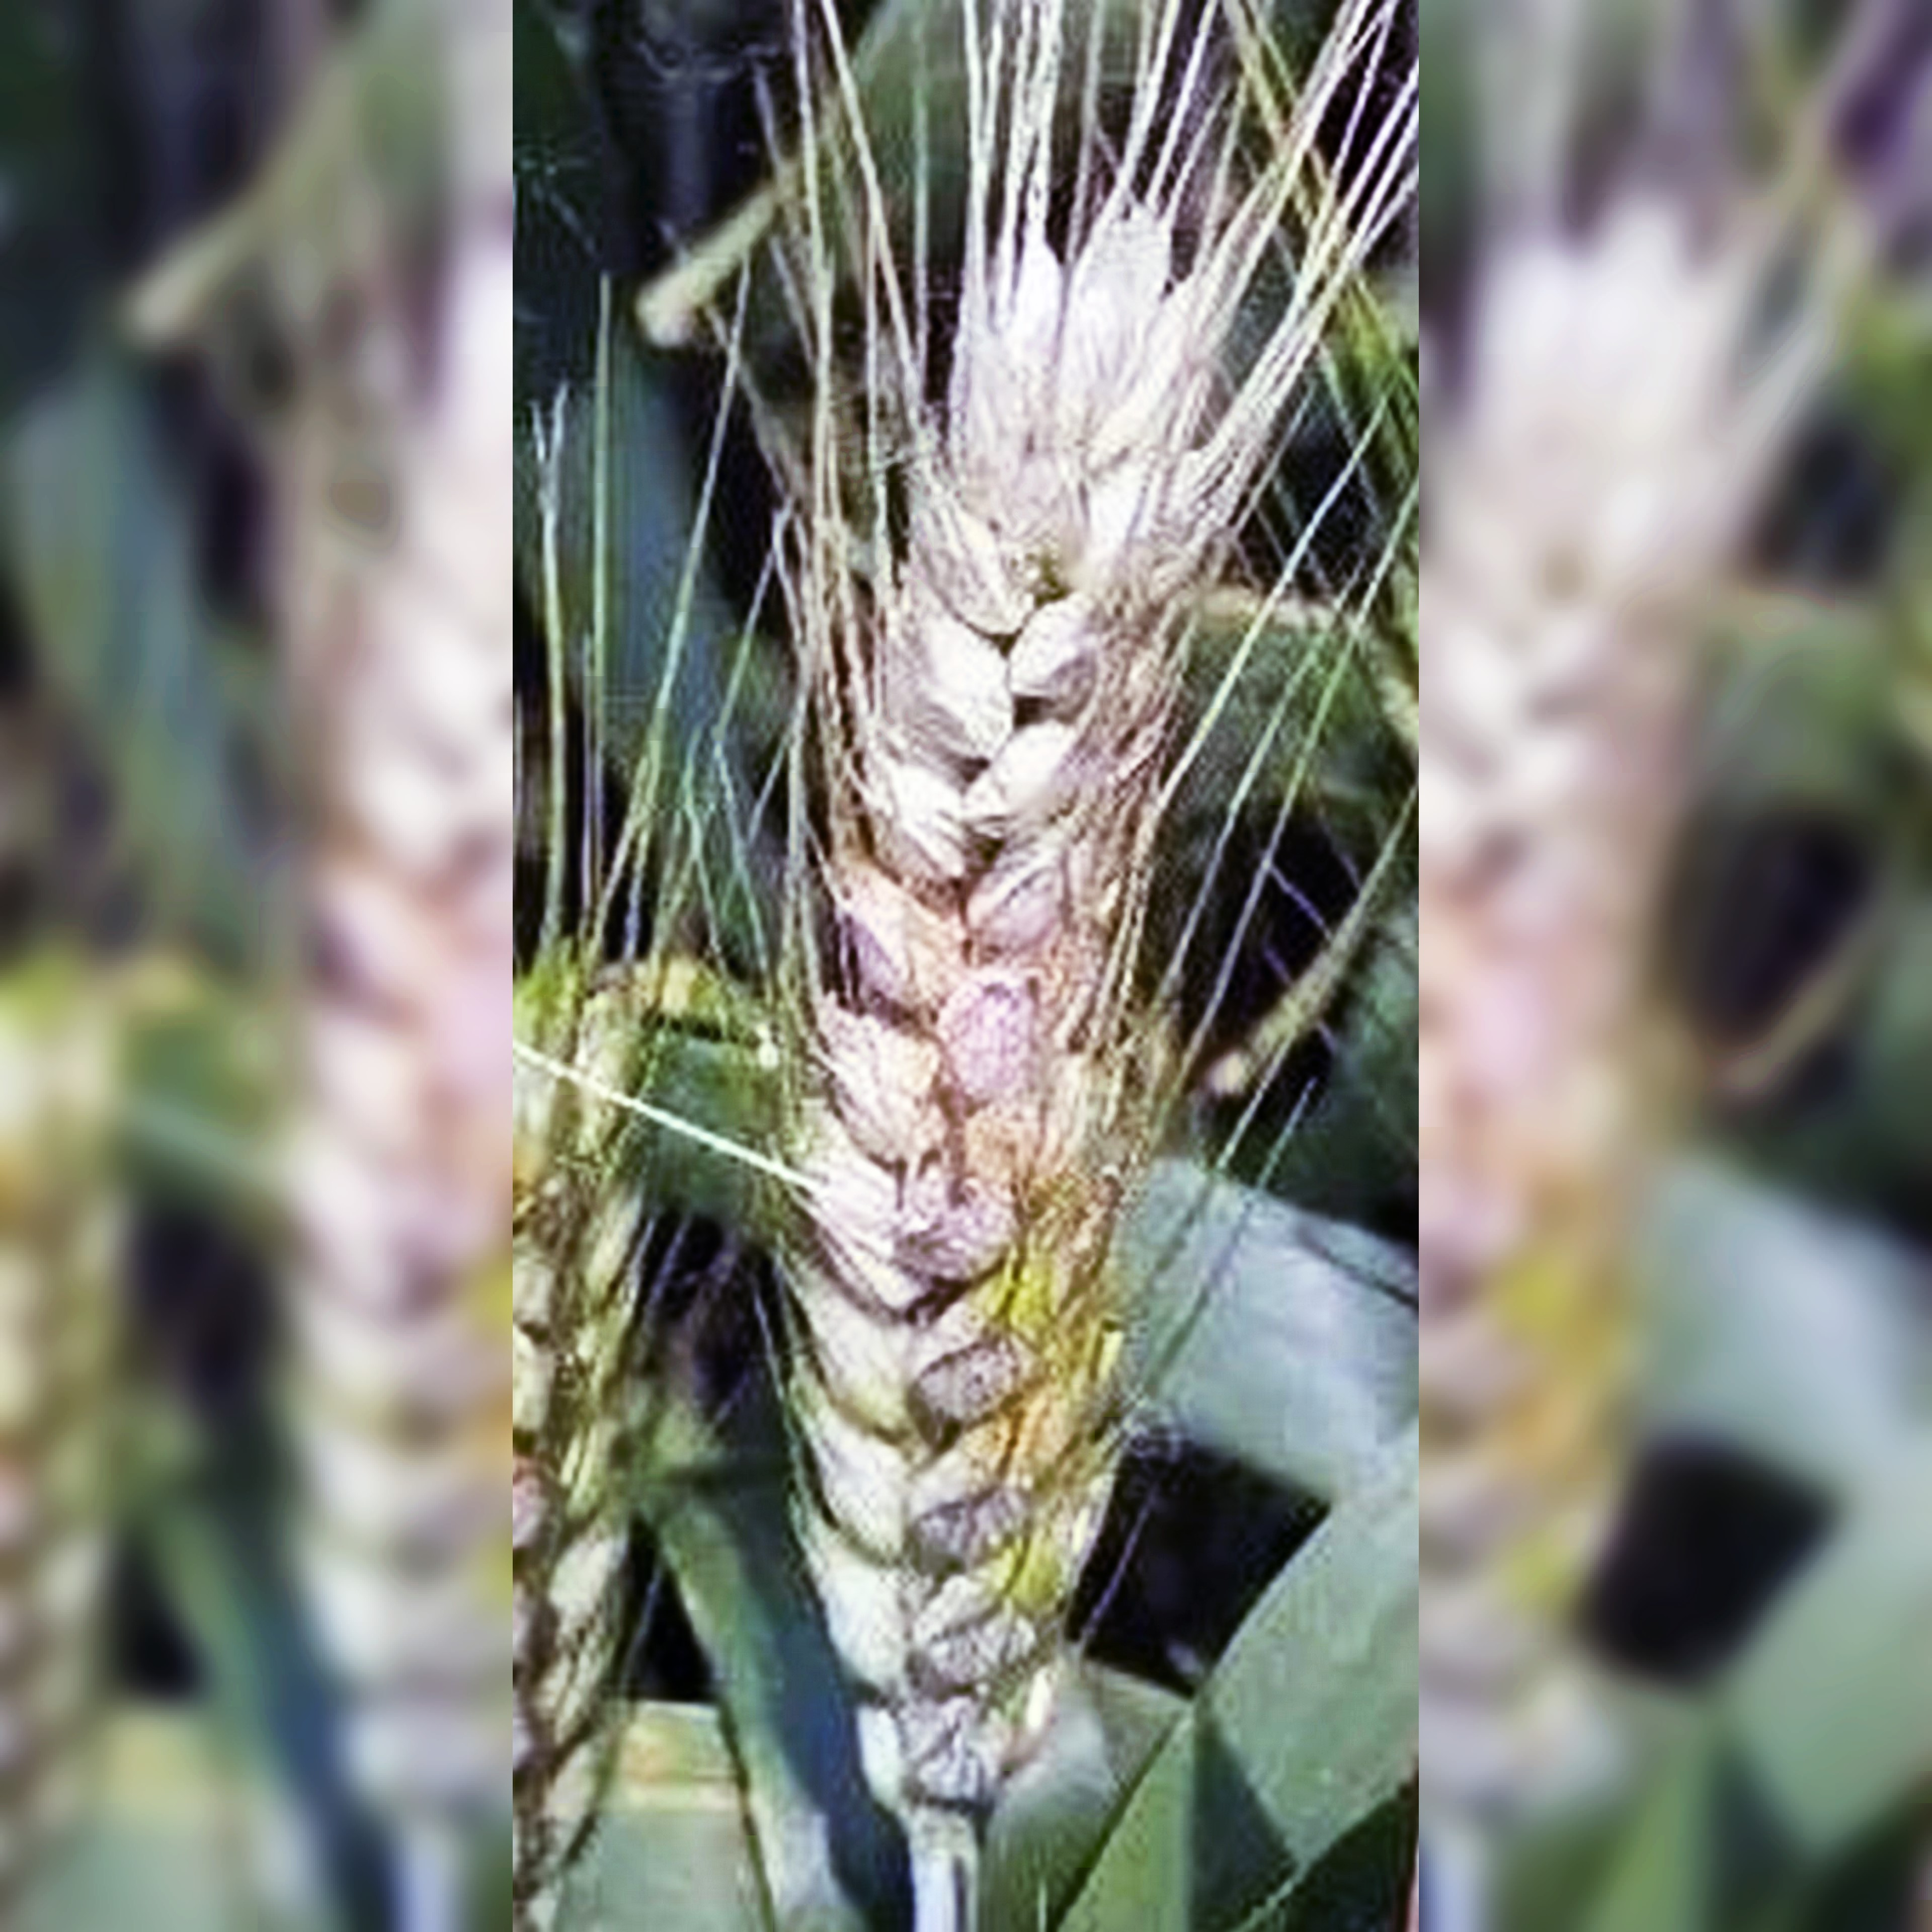Wheat scab: (701, 743, 1180, 1755)
